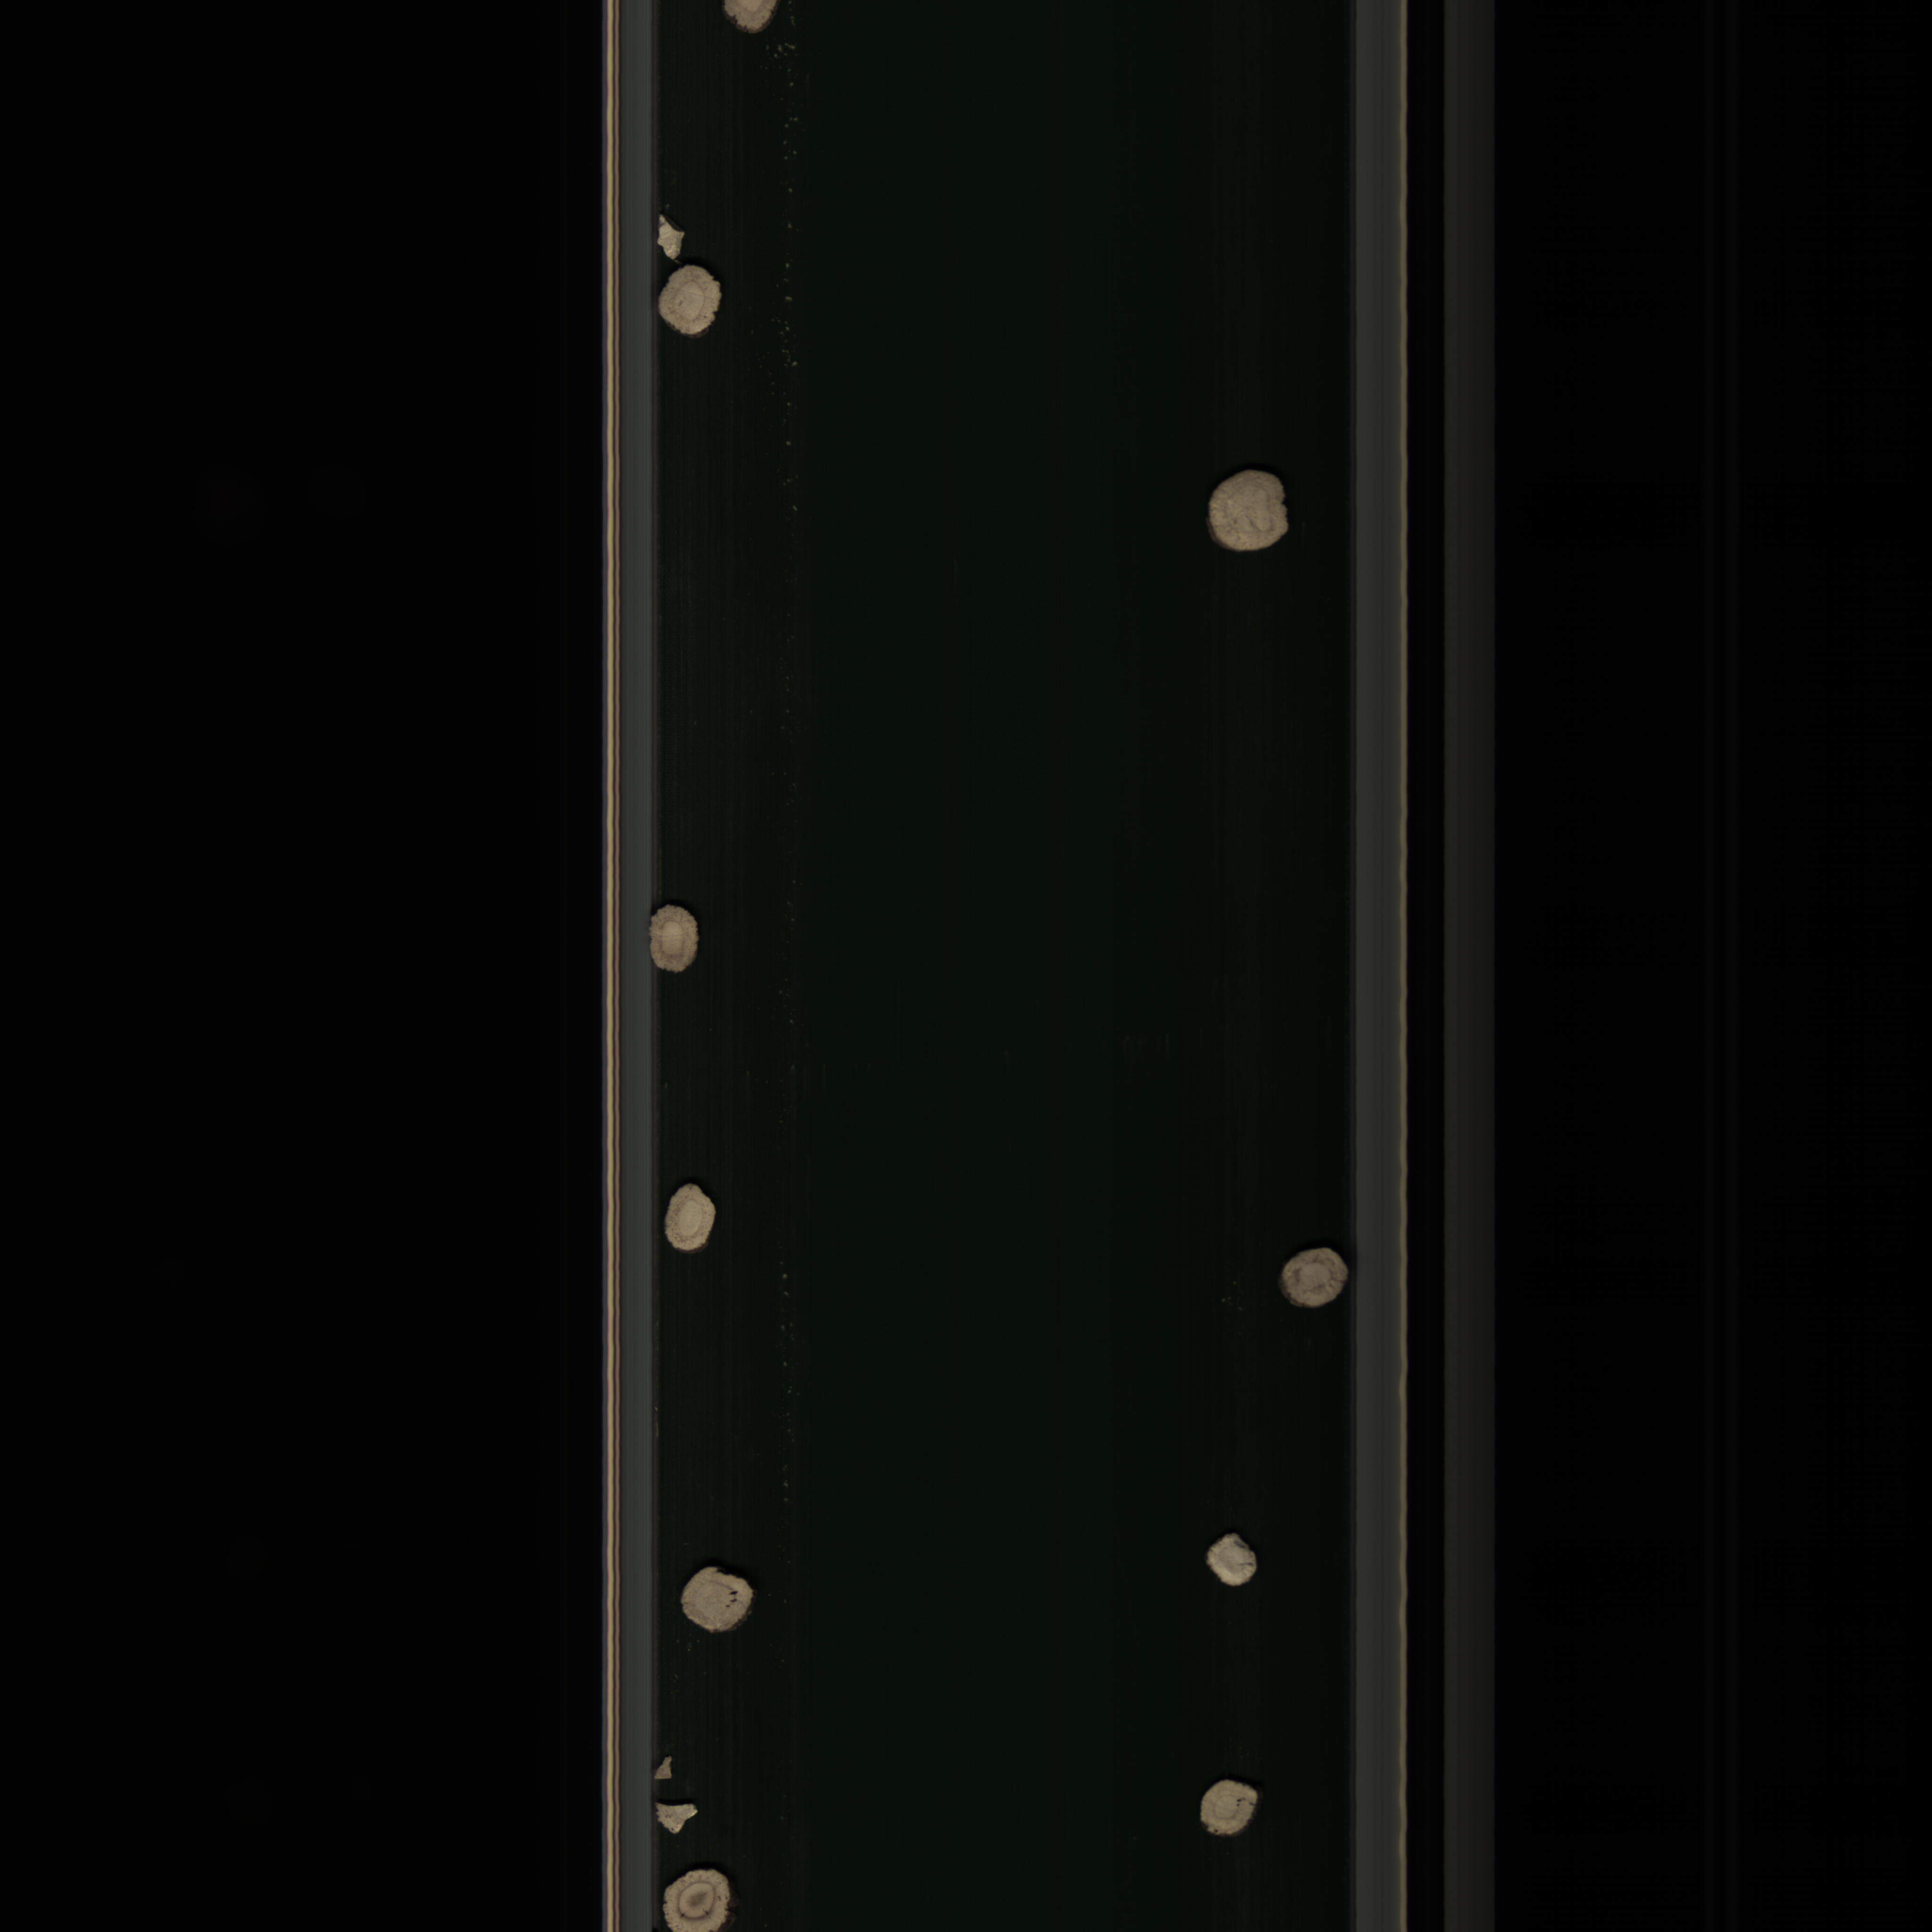debris: (651, 1794, 709, 1835), (648, 207, 690, 262), (649, 1746, 681, 1787)
